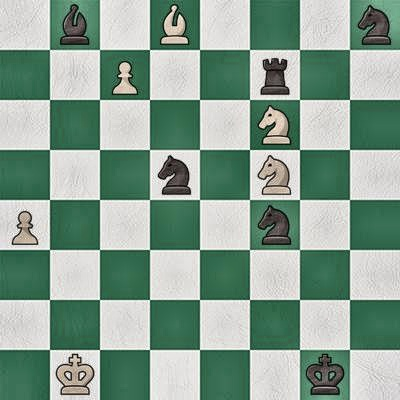black-bishop: (50, 0, 100, 50)
black-king: (300, 350, 350, 400)
black-knight: (350, 0, 400, 50), (150, 150, 200, 200), (250, 200, 300, 250)
black-rook: (250, 50, 300, 100)
white-bishop: (150, 0, 200, 50)
white-king: (50, 350, 100, 400)
white-knight: (250, 100, 300, 150), (250, 150, 300, 200)
white-pawn: (100, 50, 150, 100), (0, 200, 50, 250)
